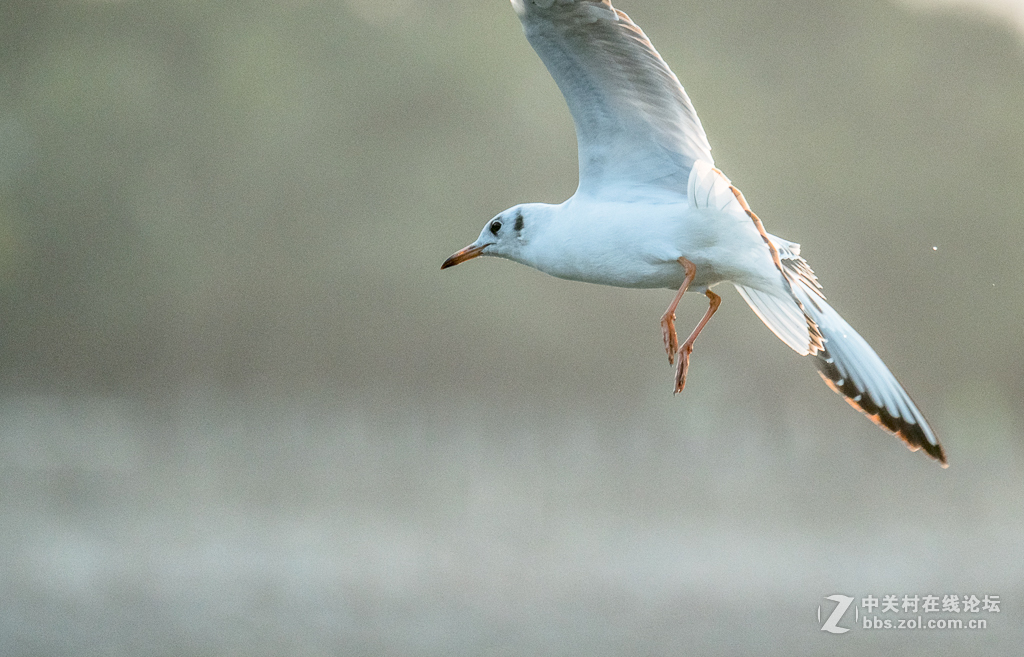bird: (433, 1, 953, 469)
